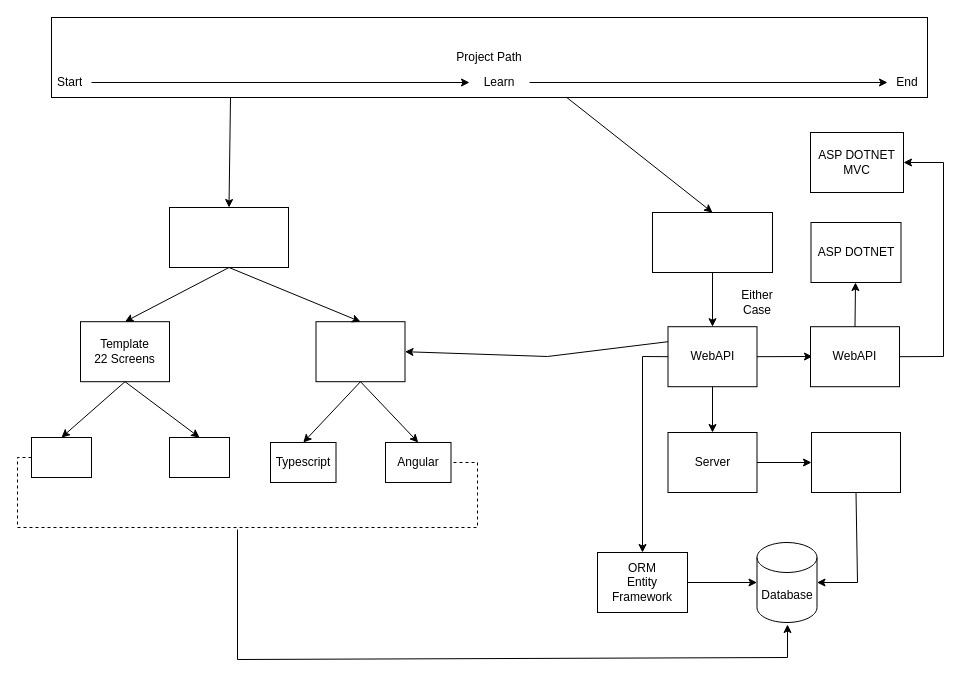
Some shapes in this 969 by 685 pixel diagram are drawn without their labels. The shapes that lost their labels are listed below. From the top down, each one's box as (x1, y1, x2, y2) in pixels, then its label:
(168, 206, 288, 268): Front-End
(652, 212, 772, 272): Backend
(315, 321, 405, 382): Component
(30, 436, 92, 478): CSS
(168, 436, 230, 478): HTML
(810, 432, 900, 492): MS-SQL
